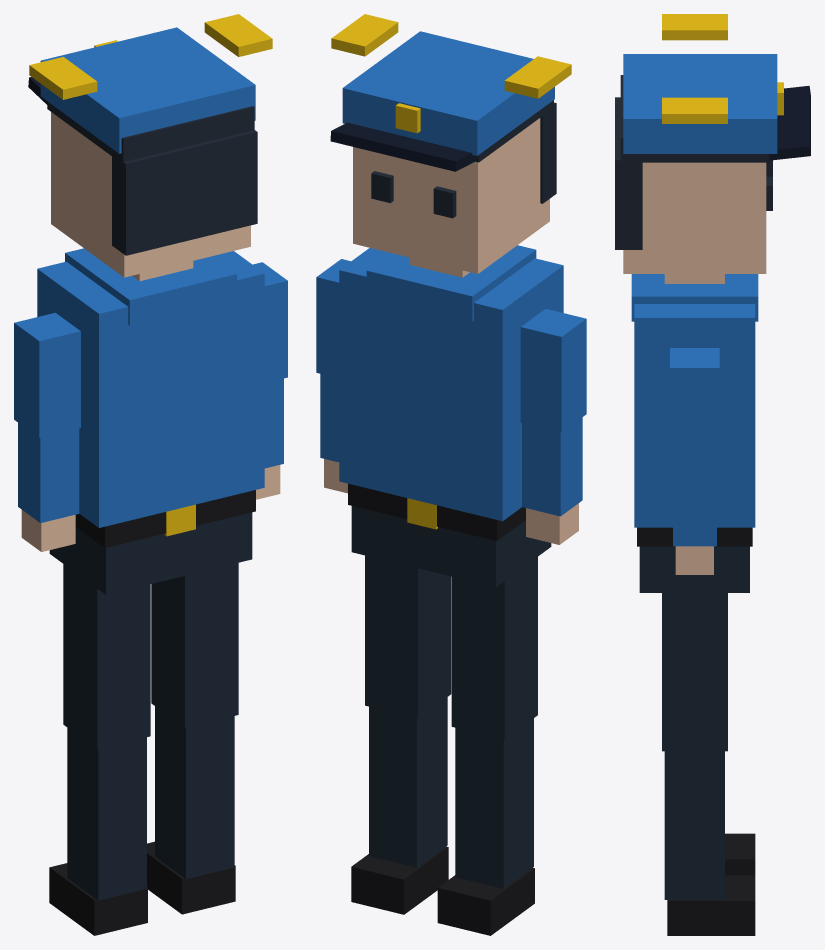
Rendered from avatar.glb.
3 renders of one model, left to right at view 1: azimuth 30°, elevation 25°; view 2: azimuth 150°, elevation 25°; view 3: azimuth 270°, elevation 25°, orthographic. The views are drawn at different scales.
Visible parts, largest first — view 1: chest_mesh, kepi_crown, hair_back, leg_upper_mesh_R, leg_upper_mesh_L, leg_lower_mesh_R, leg_lower_mesh_L, head_mesh, pelvis_mesh, arm_upper_mesh_R, collar_mesh, arm_lower_mesh_R (+11 smaller); view 2: chest_mesh, head_mesh, kepi_crown, leg_upper_mesh_R, leg_upper_mesh_L, leg_lower_mesh_L, leg_lower_mesh_R, pelvis_mesh, arm_upper_mesh_R, collar_mesh, arm_lower_mesh_R, foot_R (+14 smaller); view 3: chest_mesh, head_mesh, kepi_crown, leg_upper_mesh_L, leg_lower_mesh_L, arm_upper_mesh_L, pelvis_mesh, foot_L, arm_lower_mesh_L, collar_mesh, hair_back, kepi_brim (+7 smaller).
Part boxes in pixels (bbox=[...]): chest_mesh: bbox=[37, 251, 264, 527]; kepi_crown: bbox=[40, 27, 255, 153]; hair_back: bbox=[112, 130, 257, 255]; leg_upper_mesh_R: bbox=[63, 564, 150, 749]; leg_upper_mesh_L: bbox=[151, 563, 238, 727]; leg_lower_mesh_R: bbox=[67, 728, 146, 900]; leg_lower_mesh_L: bbox=[155, 706, 234, 879]; head_mesh: bbox=[51, 112, 250, 277]; pelvis_mesh: bbox=[49, 512, 252, 594]; arm_upper_mesh_R: bbox=[14, 312, 80, 437]; collar_mesh: bbox=[65, 248, 236, 325]; arm_lower_mesh_R: bbox=[18, 423, 79, 522]; chest_mesh: bbox=[339, 248, 563, 521]; head_mesh: bbox=[353, 118, 549, 273]; kepi_crown: bbox=[342, 31, 554, 155]; leg_upper_mesh_R: bbox=[451, 557, 537, 739]; leg_upper_mesh_L: bbox=[365, 555, 451, 718]; leg_lower_mesh_L: bbox=[369, 697, 447, 867]; leg_lower_mesh_R: bbox=[455, 718, 533, 888]; pelvis_mesh: bbox=[351, 506, 551, 587]; arm_upper_mesh_R: bbox=[520, 309, 586, 432]; collar_mesh: bbox=[366, 245, 536, 321]; arm_lower_mesh_R: bbox=[522, 417, 582, 516]; foot_R: bbox=[437, 867, 534, 935]; chest_mesh: bbox=[634, 304, 755, 527]; head_mesh: bbox=[623, 162, 766, 273]; kepi_crown: bbox=[623, 54, 777, 153]; leg_upper_mesh_L: bbox=[662, 593, 727, 751]; leg_lower_mesh_L: bbox=[664, 751, 724, 899]; arm_upper_mesh_L: bbox=[670, 348, 719, 462]; pelvis_mesh: bbox=[639, 546, 749, 592]; foot_L: bbox=[667, 875, 755, 935]; arm_lower_mesh_L: bbox=[673, 462, 716, 546]; collar_mesh: bbox=[631, 274, 758, 321]; hair_back: bbox=[615, 97, 642, 249]; kepi_brim: bbox=[769, 85, 810, 160].
Bounding box in the file's own units: 0.51 × 1.68 × 0.3558.
